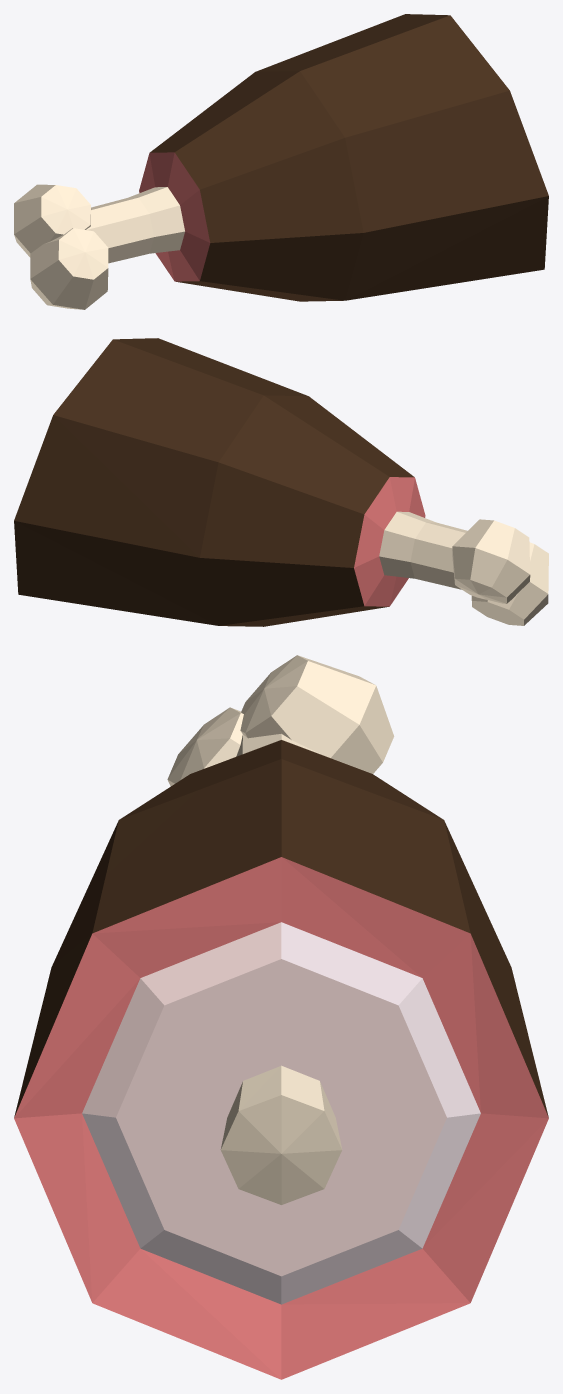
File: Tribal_Plains_Meat_Food_Ham_Leg_Bone_01.fbx
3 views of the same model, one above another, from view 1: azimuth 30°, elevation 25°; view 2: azimuth 150°, elevation 25°; view 3: azimuth 270°, elevation 25° (orthographic). The views are drawn at different scales.
Parts seen in each view (by area): view 1: Tribal_Plains_Meat_Food_Ham_Leg_Bone_01; view 2: Tribal_Plains_Meat_Food_Ham_Leg_Bone_01; view 3: Tribal_Plains_Meat_Food_Ham_Leg_Bone_01.
Boxes of the visible parts, box(x1,y1,x2,y2) form: Tribal_Plains_Meat_Food_Ham_Leg_Bone_01: box(14, 14, 548, 309); Tribal_Plains_Meat_Food_Ham_Leg_Bone_01: box(14, 338, 548, 626); Tribal_Plains_Meat_Food_Ham_Leg_Bone_01: box(14, 655, 548, 1379).
Bounding box in the file's own units: 1.25 × 0.6497 × 0.6568.
